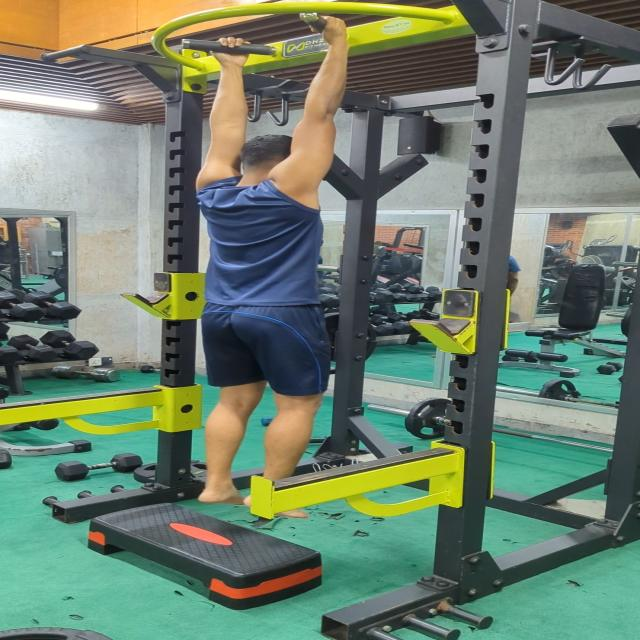Normal_PullUps: (185, 12, 358, 520)
